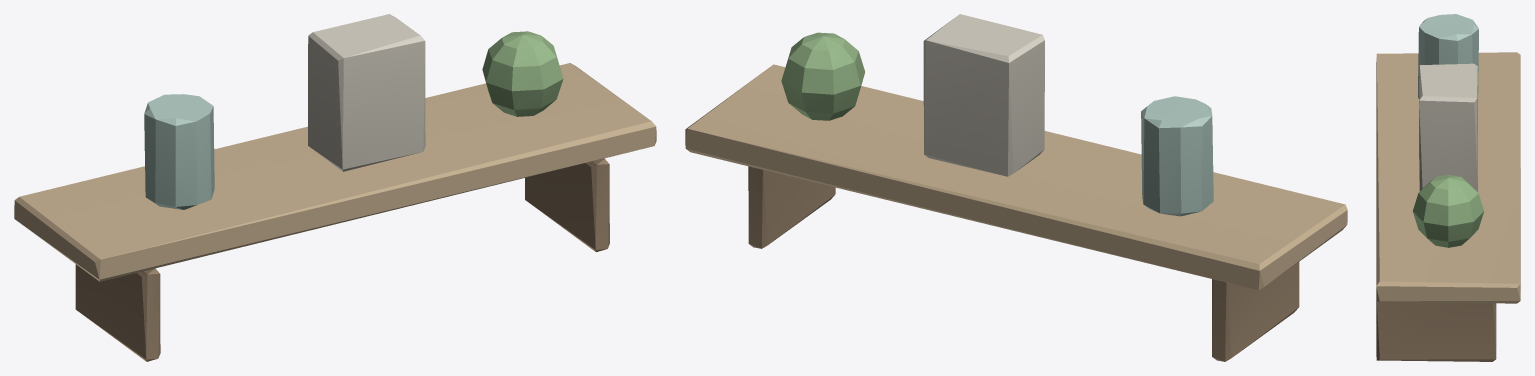
The model's file is furn_wall_shelf__oak_low.glb.
3 views of the same model, side by side, from view 1: azimuth 30°, elevation 25°; view 2: azimuth 150°, elevation 25°; view 3: azimuth 270°, elevation 25° (orthographic). The views are drawn at different scales.
Size of the model in its own units: 0.9 by 0.36 by 0.2357.
